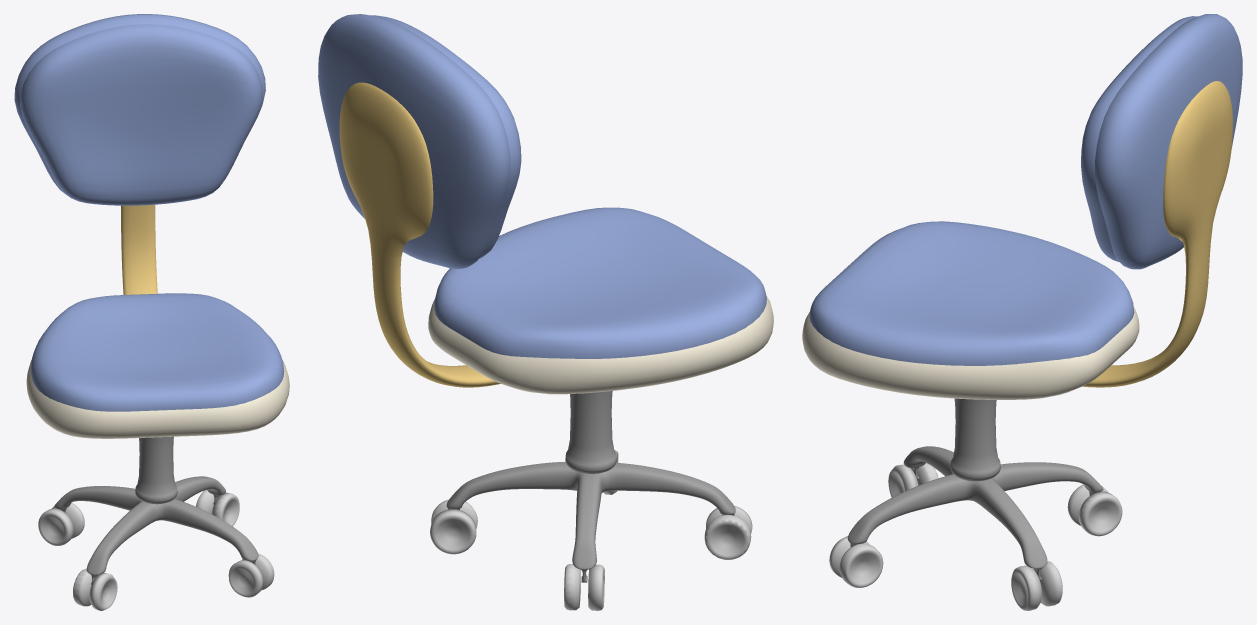
The model's file is chair.fbx.
The picture shows the model from 3 angles, left to right: view 1: azimuth 30°, elevation 25°; view 2: azimuth 150°, elevation 25°; view 3: azimuth 270°, elevation 25°; orthographic projection. The views are drawn at different scales.
Visible parts, largest first — view 1: chair; view 2: chair; view 3: chair.
Part boxes in pixels (left/top/right/bottom): chair: left=14, top=14, right=289, bottom=610; chair: left=318, top=14, right=773, bottom=610; chair: left=802, top=14, right=1242, bottom=610.
Size of the model in its own units: 8.96 by 13.85 by 9.85.
